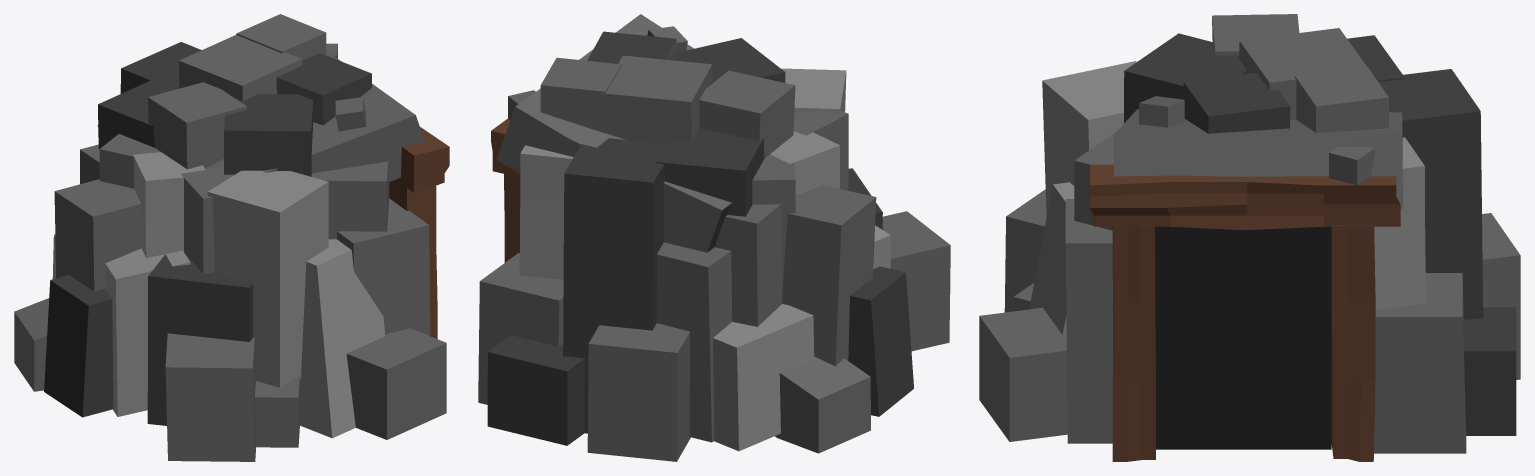
File: Mine.fbx
3 renders of one model, left to right at view 1: azimuth 30°, elevation 25°; view 2: azimuth 150°, elevation 25°; view 3: azimuth 270°, elevation 25°, orthographic. The views are drawn at different scales.
Parts seen in each view (by area): view 1: Mine; view 2: Mine; view 3: Mine.
Boxes of the visible parts, x1,y1,x2,y2 form: Mine: (14, 14, 449, 461); Mine: (478, 14, 950, 461); Mine: (979, 14, 1520, 461).
Bounding box in the file's own units: 86.05 × 71.1 × 59.68.
